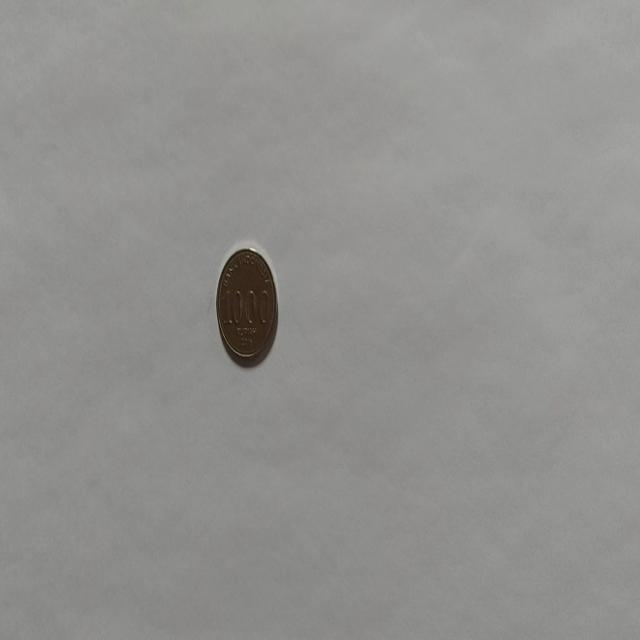seribu rupiah koin: (214, 245, 278, 368)
